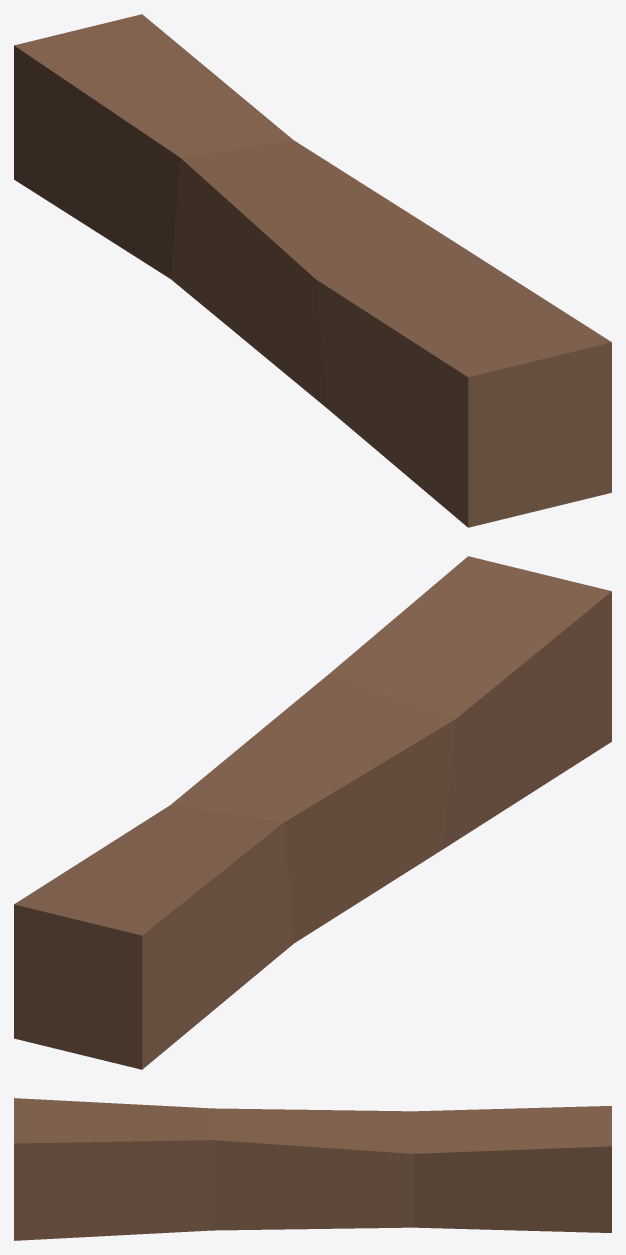
The model's file is env_prop_woodenbeam1_mesh_01_v1.glb.
3 renders of one model, top to bottom at view 1: azimuth 30°, elevation 25°; view 2: azimuth 150°, elevation 25°; view 3: azimuth 270°, elevation 25°, orthographic. The views are drawn at different scales.
Parts seen in each view (by area): view 1: WoodenBeam; view 2: WoodenBeam; view 3: WoodenBeam.
Boxes of the visible parts, x1,y1,x2,y2 form: WoodenBeam: [14, 14, 611, 527]; WoodenBeam: [14, 556, 611, 1069]; WoodenBeam: [14, 1098, 611, 1240].
Bounding box in the file's own units: 0.5028 × 0.5028 × 2.8.
